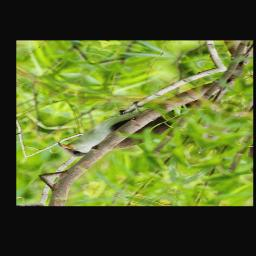Cuckoo: (48, 68, 223, 180)
